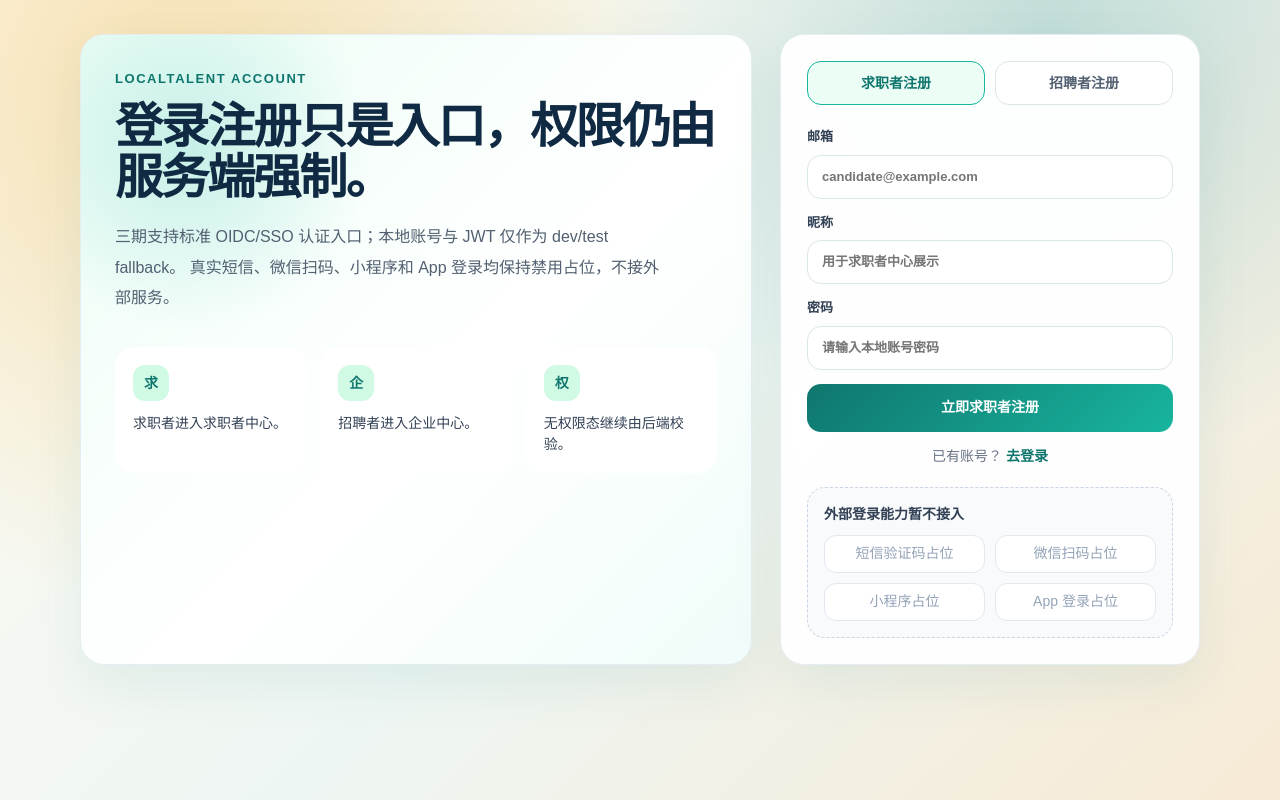
it: AuthPage › switches register UI between candidate and company forms
This screenshot has width=1280, height=800.
Check: the field labelled "邮箱" is shown, box [807,154,1173,198]
Check: the field labelled "昵称" is shown, box [807,240,1173,284]
Click the tab "招聘者注册": click(1084, 83) [995,61,1173,105]
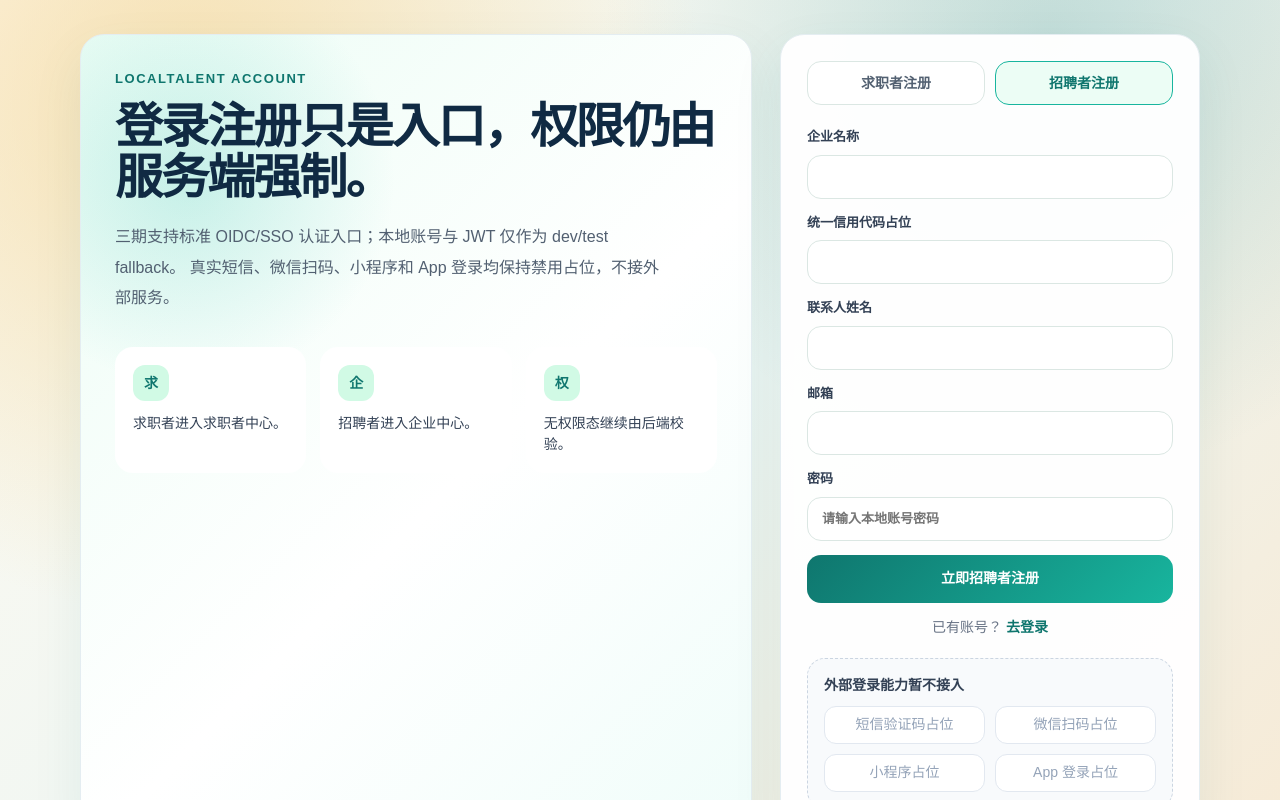
Check: the field labelled "企业名称" is shown, box [807,154,1173,198]
Check: the field labelled "联系人姓名" is shown, box [807,326,1173,370]
